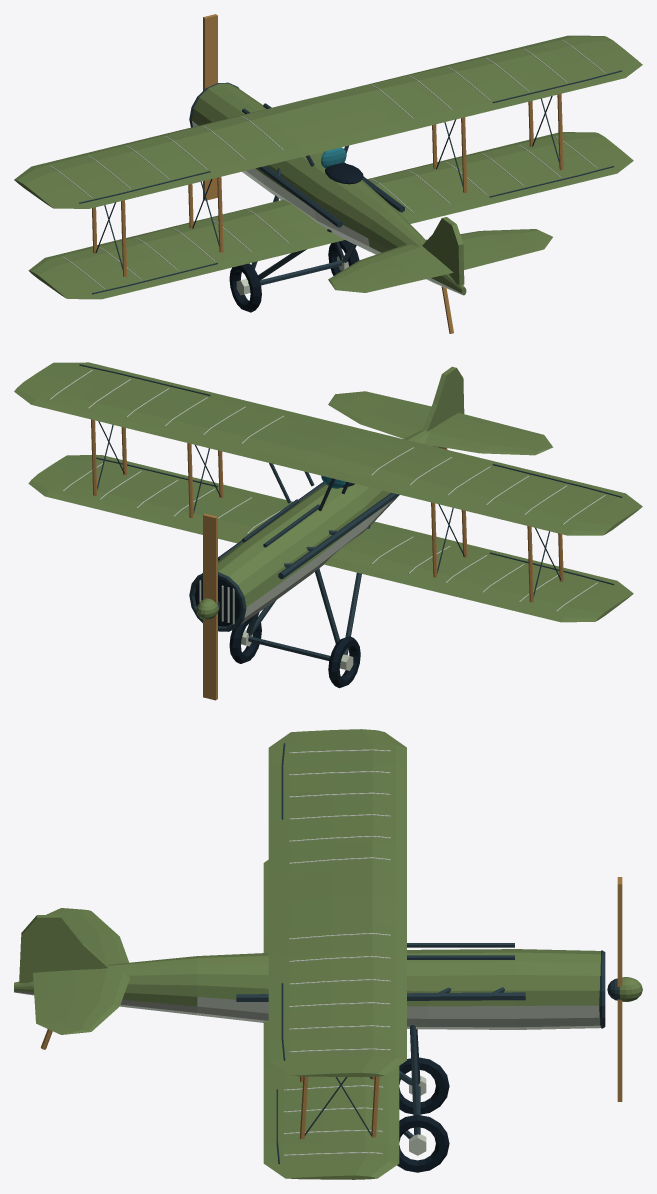
Rendered from archive-spad-xiii.glb.
The picture shows the model from 3 angles, top to bottom: view 1: azimuth 30°, elevation 25°; view 2: azimuth 150°, elevation 25°; view 3: azimuth 270°, elevation 25°; orthographic projection. The views are drawn at different scales.
Visible parts, largest first — view 1: archive-spad-xiii-wing_1_-1.001-geometry, archive-spad-xiii-wing_1_1.001-geometry, archive-spad-xiii-wing_0_-1.001-geometry, archive-spad-xiii-wing_0_1.001-geometry, archive-spad-xiii-fuselage.001-geometry, archive-spad-xiii-archive-spad-xiii-geometry, archive-spad-xiii-tailplane.002-geometry, archive-spad-xiii-tailplane.003-geometry, archive-spad-xiii-vertical_tail.001-geometry, archive-spad-xiii-propeller_00.001-geometry, archive-spad-xiii-engine_exhaust-geometry; view 2: archive-spad-xiii-wing_1_-1.001-geometry, archive-spad-xiii-wing_1_1.001-geometry, archive-spad-xiii-wing_0_-1.001-geometry, archive-spad-xiii-wing_0_1.001-geometry, archive-spad-xiii-archive-spad-xiii-geometry, archive-spad-xiii-fuselage.001-geometry, archive-spad-xiii-tailplane.002-geometry, archive-spad-xiii-tailplane.003-geometry, archive-spad-xiii-propeller_00.001-geometry, archive-spad-xiii-vertical_tail.001-geometry, archive-spad-xiii-engine_exhaust-geometry; view 3: archive-spad-xiii-wing_1_1.001-geometry, archive-spad-xiii-wing_1_-1.001-geometry, archive-spad-xiii-fuselage.001-geometry, archive-spad-xiii-wing_0_1.001-geometry, archive-spad-xiii-archive-spad-xiii-geometry, archive-spad-xiii-tailplane.003-geometry, archive-spad-xiii-vertical_tail.001-geometry, archive-spad-xiii-tailplane.002-geometry, archive-spad-xiii-propeller_00.001-geometry, archive-spad-xiii-engine_exhaust-geometry.
Part boxes in pixels (x1,y1,x2,y2): archive-spad-xiii-wing_1_-1.001-geometry: [14, 100, 356, 208]; archive-spad-xiii-wing_1_1.001-geometry: [304, 35, 642, 143]; archive-spad-xiii-wing_0_-1.001-geometry: [28, 199, 345, 299]; archive-spad-xiii-wing_0_1.001-geometry: [367, 132, 633, 223]; archive-spad-xiii-fuselage.001-geometry: [191, 83, 466, 295]; archive-spad-xiii-archive-spad-xiii-geometry: [92, 82, 563, 333]; archive-spad-xiii-tailplane.002-geometry: [328, 244, 453, 292]; archive-spad-xiii-tailplane.003-geometry: [426, 229, 552, 269]; archive-spad-xiii-vertical_tail.001-geometry: [422, 217, 464, 285]; archive-spad-xiii-propeller_00.001-geometry: [203, 14, 217, 200]; archive-spad-xiii-engine_exhaust-geometry: [258, 162, 404, 227]; archive-spad-xiii-wing_1_-1.001-geometry: [300, 428, 642, 535]; archive-spad-xiii-wing_1_1.001-geometry: [14, 362, 356, 470]; archive-spad-xiii-wing_0_-1.001-geometry: [324, 521, 633, 622]; archive-spad-xiii-wing_0_1.001-geometry: [28, 455, 292, 543]; archive-spad-xiii-archive-spad-xiii-geometry: [91, 419, 563, 688]; archive-spad-xiii-fuselage.001-geometry: [202, 429, 443, 624]; archive-spad-xiii-tailplane.002-geometry: [425, 412, 553, 455]; archive-spad-xiii-tailplane.003-geometry: [328, 391, 431, 438]; archive-spad-xiii-propeller_00.001-geometry: [203, 513, 220, 700]; archive-spad-xiii-vertical_tail.001-geometry: [422, 366, 464, 431]; archive-spad-xiii-engine_exhaust-geometry: [218, 481, 399, 579]; archive-spad-xiii-wing_1_1.001-geometry: [268, 895, 406, 1077]; archive-spad-xiii-wing_1_-1.001-geometry: [268, 729, 406, 903]; archive-spad-xiii-fuselage.001-geometry: [14, 949, 600, 1029]; archive-spad-xiii-wing_0_1.001-geometry: [263, 1021, 399, 1179]; archive-spad-xiii-archive-spad-xiii-geometry: [41, 943, 642, 1172]; archive-spad-xiii-tailplane.003-geometry: [33, 969, 130, 1034]; archive-spad-xiii-vertical_tail.001-geometry: [19, 915, 107, 983]; archive-spad-xiii-tailplane.002-geometry: [46, 908, 128, 964]; archive-spad-xiii-propeller_00.001-geometry: [607, 877, 622, 1101]; archive-spad-xiii-engine_exhaust-geometry: [236, 987, 525, 1001].
Size of the model in its own units: 7.76 by 2.77 by 6.
